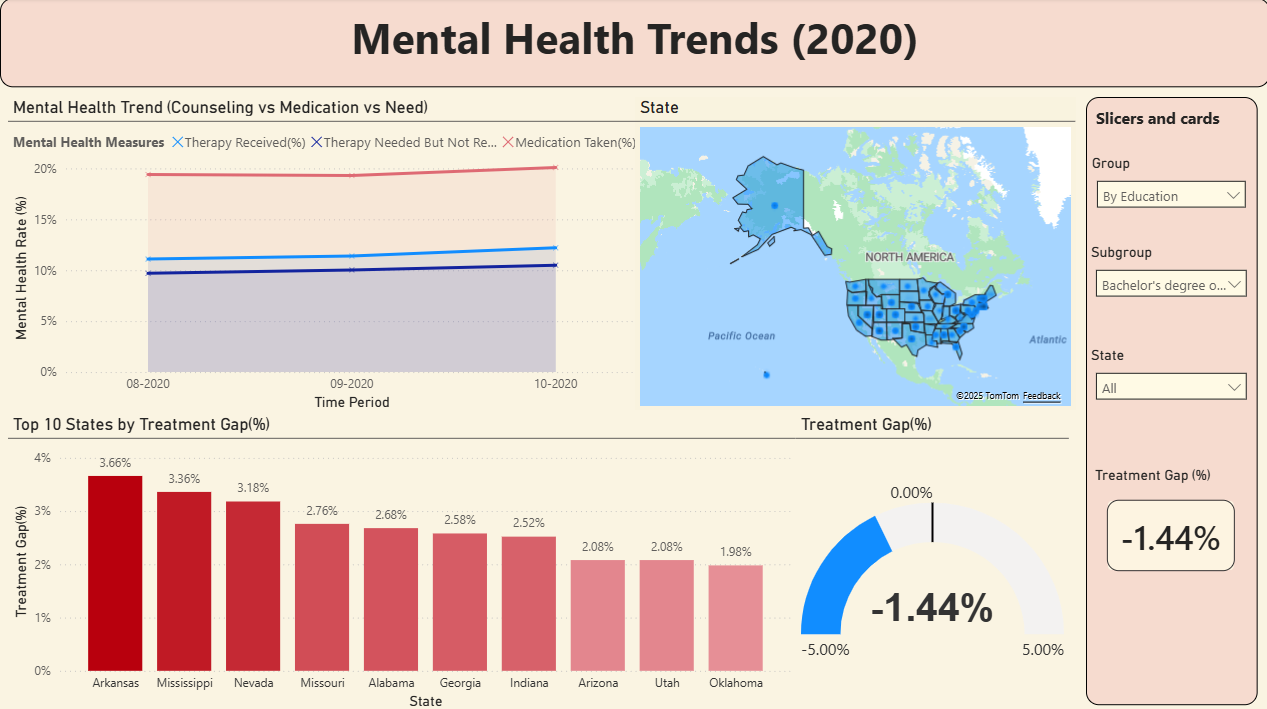

The page's visual inventory and layout, read from the dashboard file:
{"tool":"powerbi","page":{"name":"Page 1","canvas":[1280,720],"ordinal":0},"visuals":[{"type":"lineChart","title":"Mental Health Trend (Counseling vs Medication vs Need)","fields":{"Category":["Calendar.YearMonth"],"Y":["Mental_Health_Care_in_the_Last_4_Weeks.TherapyReceived%","Mental_Health_Care_in_the_Last_4_Weeks.TherapyNeededButNotReceived%","Mental_Health_Care_in_the_Last_4_Weeks.MedicationTaken%"]},"box":[8.1,99.7,639.2,319.6],"z":0},{"type":"slicer","title":"State Filter","fields":{"Values":["Mental_Health_Care_in_the_Last_4_Weeks.State"]},"box":[1094.2,286.9,173.1,82.5],"z":1000},{"type":"slicer","title":"Group Filter","fields":{"Values":["Mental_Health_Care_in_the_Last_4_Weeks.Group"]},"box":[1094.2,99.9,170.7,82.5],"z":2000},{"type":"slicer","title":"Subgroup Filter","fields":{"Values":["Mental_Health_Care_in_the_Last_4_Weeks.Subgroup"]},"box":[1094.2,191.7,173.1,84.8],"z":3000},{"type":"textbox","box":[0,0,1280,89.7],"z":4000},{"type":"azureMap","fields":{"Category":["Mental_Health_Care_in_the_Last_4_Weeks.State"]},"box":[640,99.9,443.7,314.8],"z":5000},{"type":"cardVisual","title":"Treatment Gap (%)","fields":{"Data":["Mental_Health_Care_in_the_Last_4_Weeks.Treatment Gap(%)"]},"box":[1077.9,414.7,189.3,146.4],"z":6000},{"type":"clusteredColumnChart","title":"Top 10 States by Treatment Gap(%)","fields":{"Category":["Mental_Health_Care_in_the_Last_4_Weeks.State"],"Y":["Mental_Health_Care_in_the_Last_4_Weeks.Treatment Gap(%)"]},"box":[8.1,419.3,794.5,300.8],"z":7000},{"type":"gauge","fields":{"Y":["Mental_Health_Care_in_the_Last_4_Weeks.Treatment Gap(%)"]},"box":[802.3,419.3,275.1,285.2],"z":8000}]}

Visuals, with their boxes in screenshot pixels (x1, y1, x2, y2), scaled from the page's 1280x720 canvas onto the 1267x709 screenshot:
"Mental Health Trend (Counseling vs Medication vs Need)" lineChart: 8/98/641/413
"State Filter" slicer: 1083/283/1254/364
"Group Filter" slicer: 1083/98/1252/180
"Subgroup Filter" slicer: 1083/189/1254/272
textbox: 0/0/1266/88
azureMap - Mental_Health_Care_in_the_Last_4_Weeks.State: 634/98/1073/408
"Treatment Gap (%)" cardVisual: 1067/408/1254/553
"Top 10 States by Treatment Gap(%)" clusteredColumnChart: 8/413/794/708
gauge - Mental_Health_Care_in_the_Last_4_Weeks.Treatment Gap(%): 794/413/1066/694
